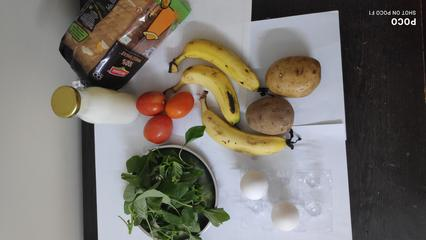banana: (199, 101, 292, 157), (180, 45, 270, 100)
bread: (62, 5, 200, 79)
eggs: (235, 169, 315, 228)
milk: (45, 83, 139, 134)
potato: (267, 54, 322, 96), (248, 93, 299, 130)
spinach: (131, 153, 207, 227)
tomato: (132, 88, 191, 139)
